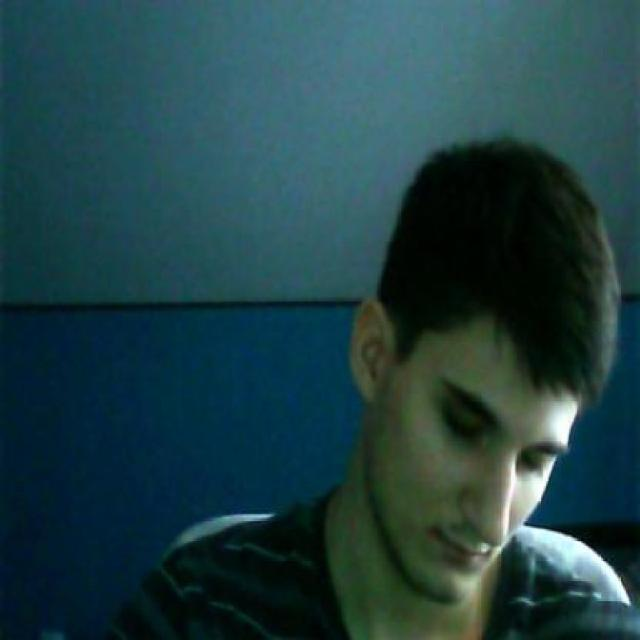drowsy: (444, 405, 484, 450), (520, 452, 545, 479)
